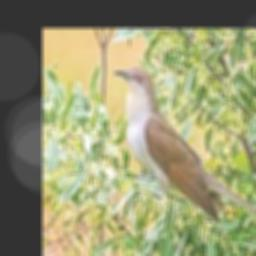Cuckoo: (112, 66, 256, 240)
